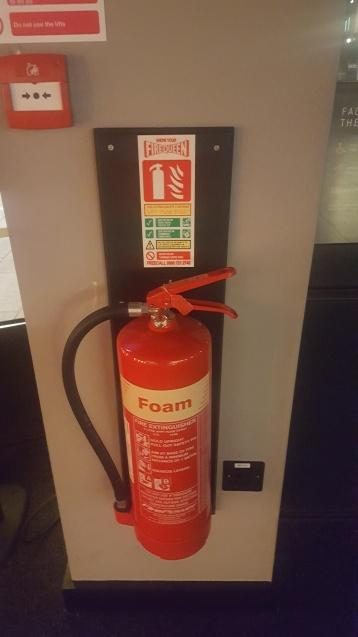APAR: (115, 267, 237, 559)
